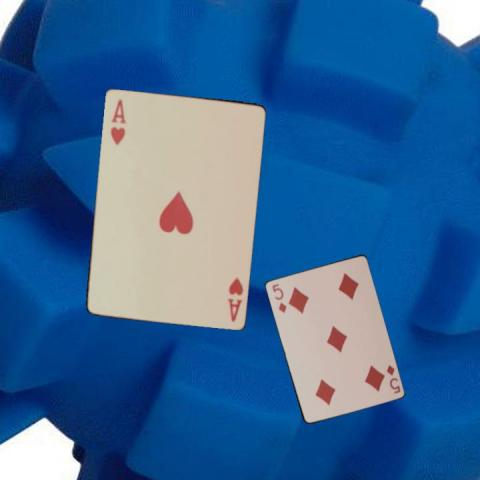5d: (269, 280, 287, 314), (384, 362, 402, 395)
Ah: (107, 96, 127, 146), (224, 274, 244, 323)
